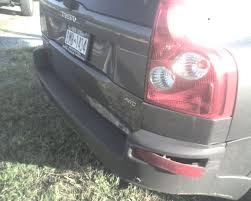Dent: (123, 136, 212, 190), (101, 41, 134, 100)
